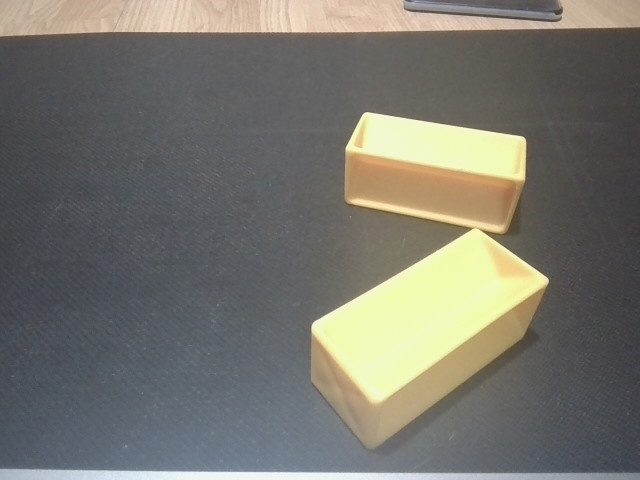YellowSample: (305, 226, 554, 454), (339, 108, 534, 239)
